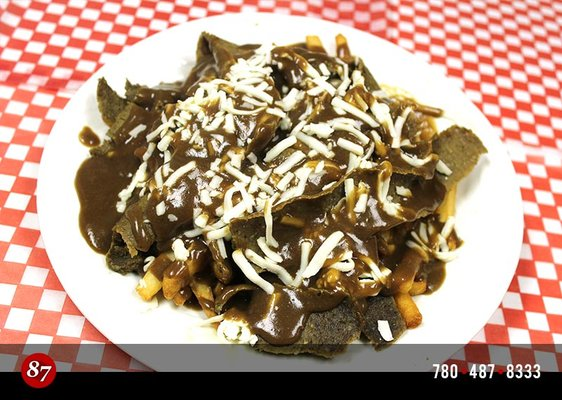curry: (22, 1, 562, 394)
